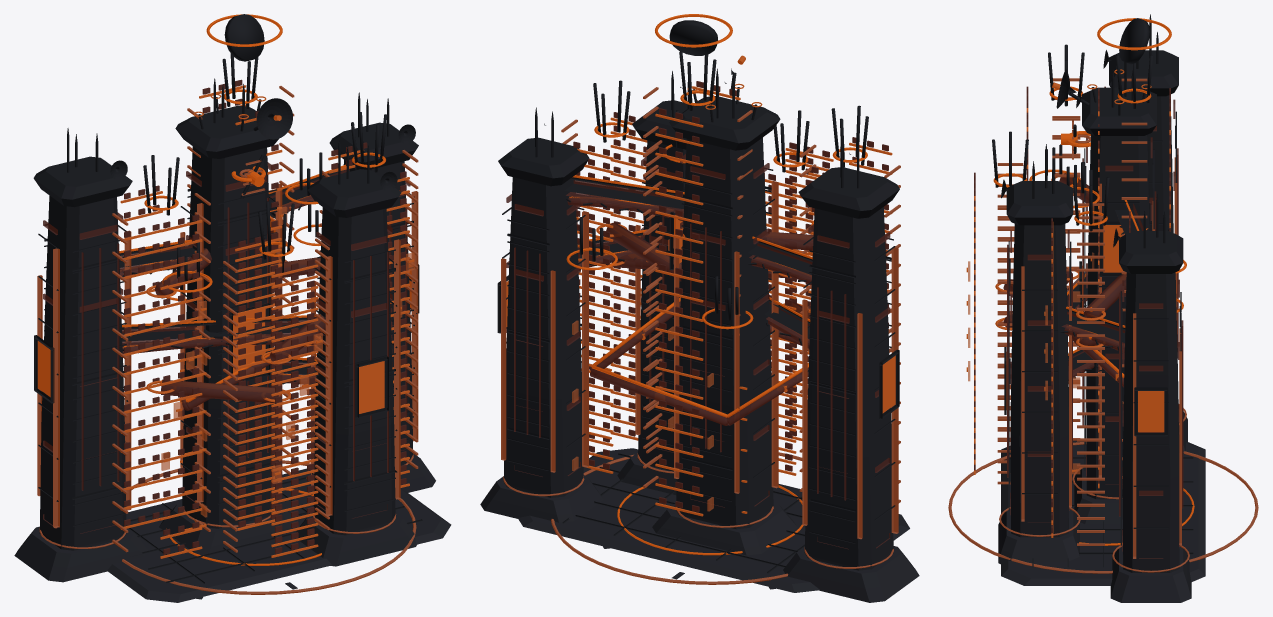
Rendered from chat-ext-hero-draft-s87.glb.
3 renders of one model, left to right at view 1: azimuth 30°, elevation 25°; view 2: azimuth 150°, elevation 25°; view 3: azimuth 270°, elevation 25°, orthographic. The views are drawn at different scales.
Parts seen in each view (by area): view 1: chat_s86_base_hero_mesh, chat_s86_detail_hero_mesh, chat_s86_glass_hero_mesh, chat_s86_accent_hero_mesh, chat_s86_emissive_hero_mesh, chat_s86_energy_hero_mesh, chat_s86_holo_hero_mesh; view 2: chat_s86_base_hero_mesh, chat_s86_detail_hero_mesh, chat_s86_glass_hero_mesh, chat_s86_accent_hero_mesh, chat_s86_emissive_hero_mesh, chat_s86_energy_hero_mesh, chat_s86_holo_hero_mesh; view 3: chat_s86_base_hero_mesh, chat_s86_detail_hero_mesh, chat_s86_accent_hero_mesh, chat_s86_glass_hero_mesh, chat_s86_emissive_hero_mesh, chat_s86_energy_hero_mesh, chat_s86_holo_hero_mesh.
Boxes of the visible parts, x1,y1,x2,y2 form: chat_s86_base_hero_mesh: (14,146,451,602); chat_s86_detail_hero_mesh: (33,14,422,583); chat_s86_glass_hero_mesh: (43,79,410,554); chat_s86_accent_hero_mesh: (37,86,418,594); chat_s86_emissive_hero_mesh: (38,85,414,558); chat_s86_energy_hero_mesh: (119,14,385,565); chat_s86_holo_hero_mesh: (161,206,414,517); chat_s86_base_hero_mesh: (480,137,919,602); chat_s86_detail_hero_mesh: (497,20,899,573); chat_s86_glass_hero_mesh: (506,81,890,549); chat_s86_accent_hero_mesh: (501,87,900,584); chat_s86_emissive_hero_mesh: (506,55,895,516); chat_s86_energy_hero_mesh: (566,14,867,555); chat_s86_holo_hero_mesh: (572,215,795,511); chat_s86_base_hero_mesh: (998,95,1205,602); chat_s86_detail_hero_mesh: (992,14,1193,567); chat_s86_accent_hero_mesh: (948,78,1258,573); chat_s86_glass_hero_mesh: (974,86,1183,558); chat_s86_emissive_hero_mesh: (966,69,1170,537); chat_s86_energy_hero_mesh: (993,18,1194,545); chat_s86_holo_hero_mesh: (968,206,1094,474).
Bounding box in the file's own units: 12.61 × 16.04 × 8.79.
